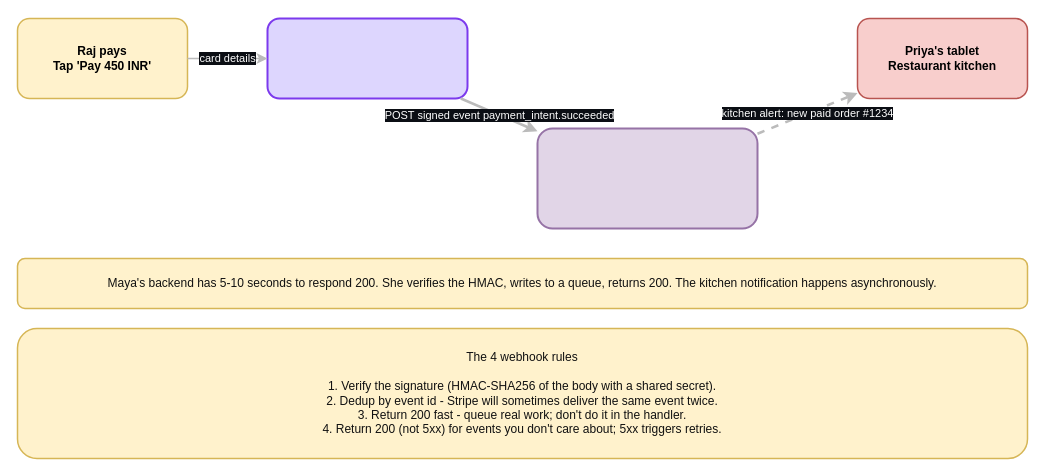
Image size: 1046x476. Some labels were removed from this diagram. The box of each missing label's shape, as (x1, y1, x2, y2) in pixels:
Maya's backend POST /webhooks/stripe: (536, 127, 758, 229)
Stripe Payment processor: (266, 17, 468, 99)
